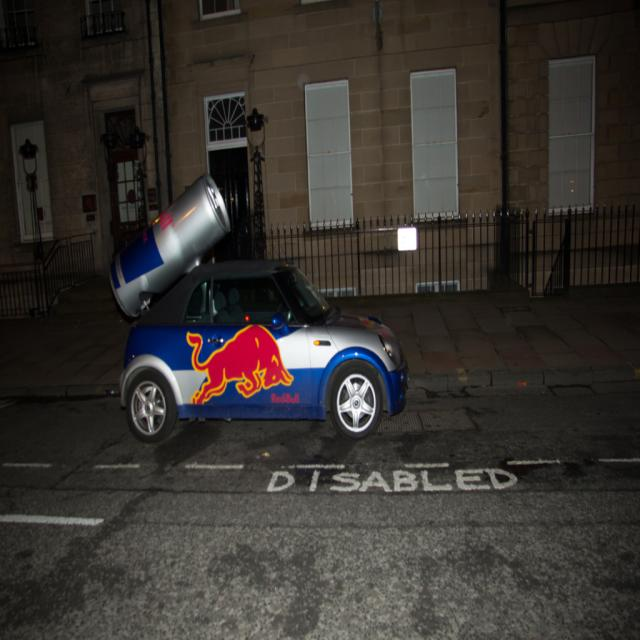car: (114, 258, 409, 438)
